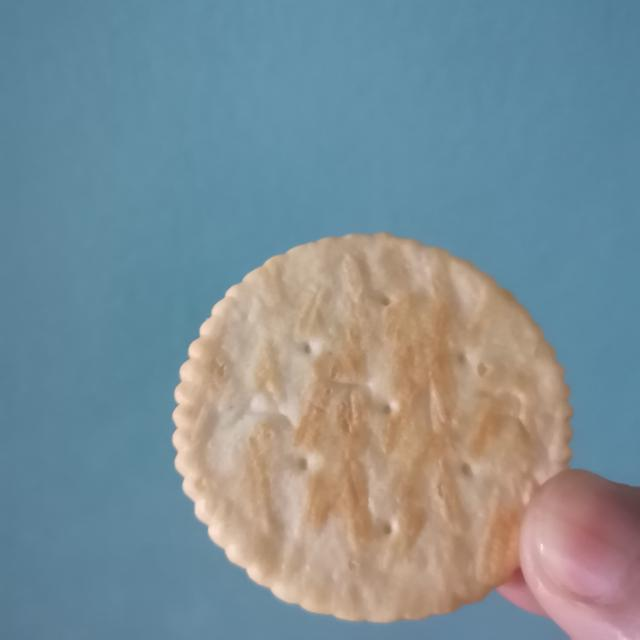Intact: (164, 219, 577, 633)
